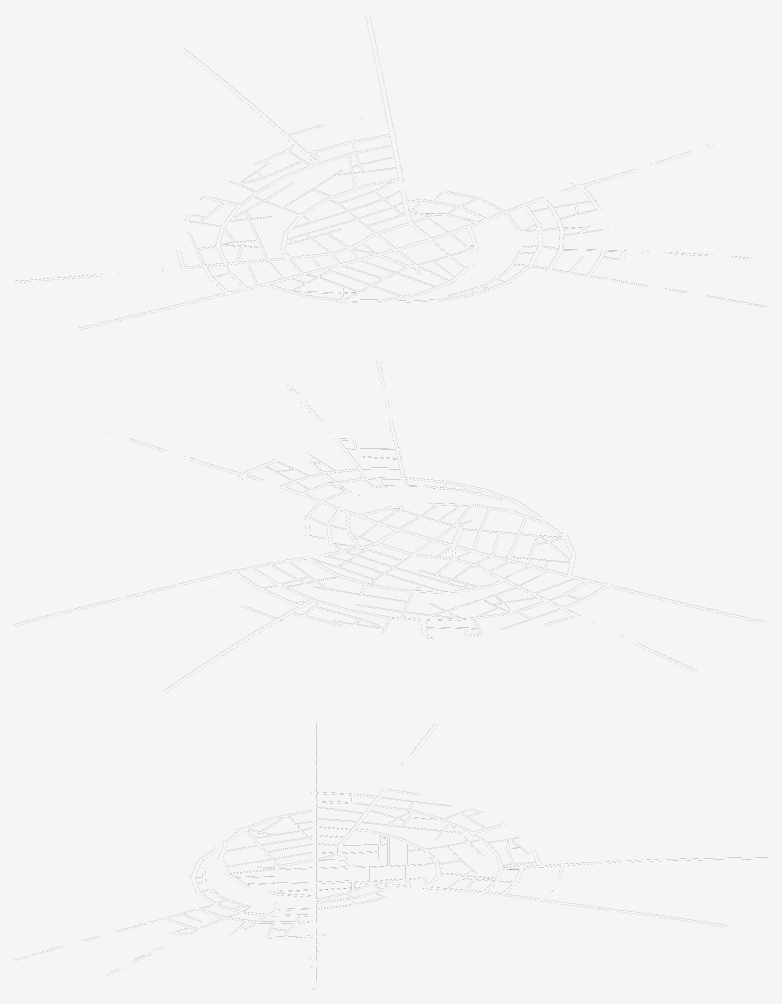
Rendered from city_3d_model_20.glb.
3 renders of one model, top to bottom at view 1: azimuth 30°, elevation 25°; view 2: azimuth 150°, elevation 25°; view 3: azimuth 270°, elevation 25°, orthographic. The views are drawn at different scales.
Visible parts, largest first — view 1: Object_313; view 2: Object_313; view 3: Object_313.
Part boxes in pixels (bbox=[...]): Object_313: bbox=[15, 16, 767, 329]; Object_313: bbox=[14, 360, 764, 691]; Object_313: bbox=[15, 721, 767, 989].
Size of the model in its own units: 769 by 38.54 by 827.
Materials: 1 (1 with a texture image).
